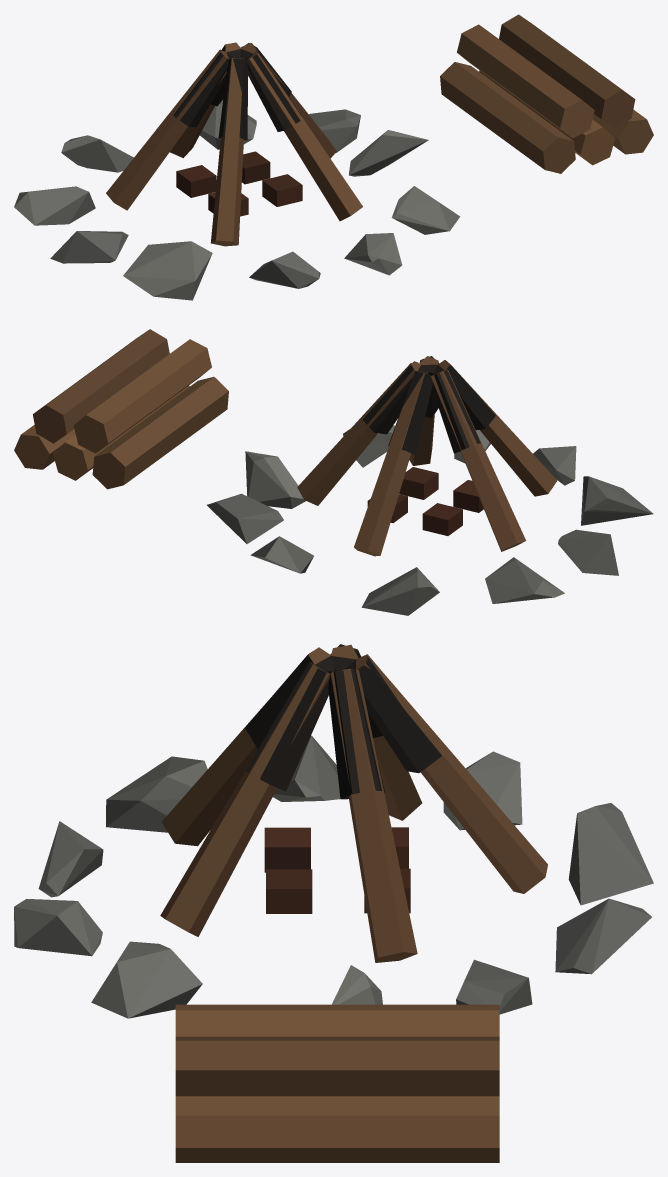
File: campfire.glb
3 renders of one model, top to bottom at view 1: azimuth 30°, elevation 25°; view 2: azimuth 150°, elevation 25°; view 3: azimuth 270°, elevation 25°, orthographic. The views are drawn at different scales.
Parts seen in each view (by area): view 1: campfire; view 2: campfire; view 3: campfire.
Boxes of the visible parts, x1,y1,x2,y2 form: campfire: (14,14,653,300); campfire: (14,329,653,615); campfire: (14,644,653,1162).
Bounding box in the file's own units: 2.16 × 0.627 × 1.38.
